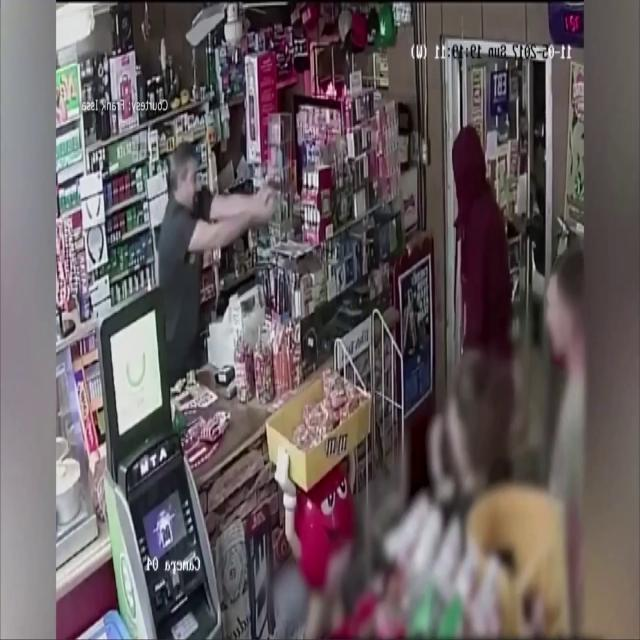Gun: (264, 180, 288, 202)
